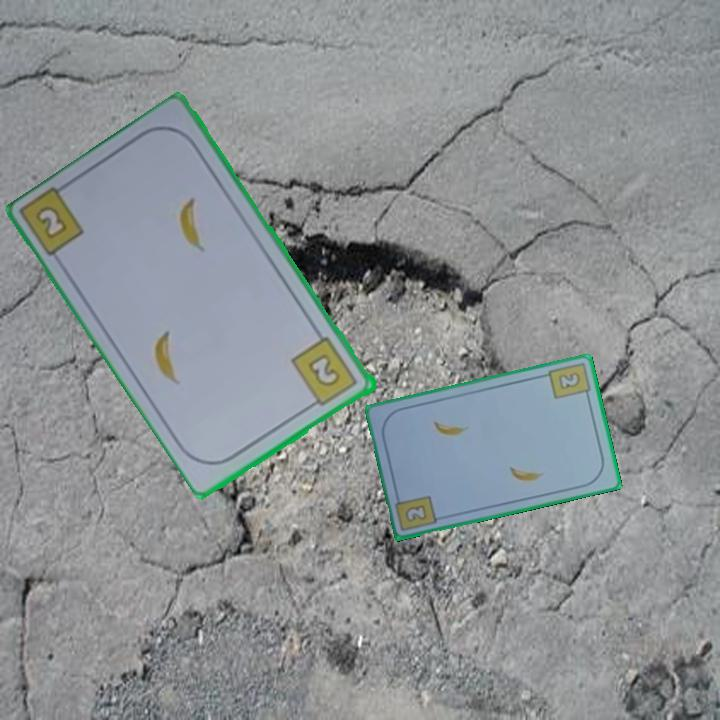2b: (288, 333, 361, 411), (545, 359, 593, 403), (36, 205, 68, 239), (402, 501, 430, 525)
